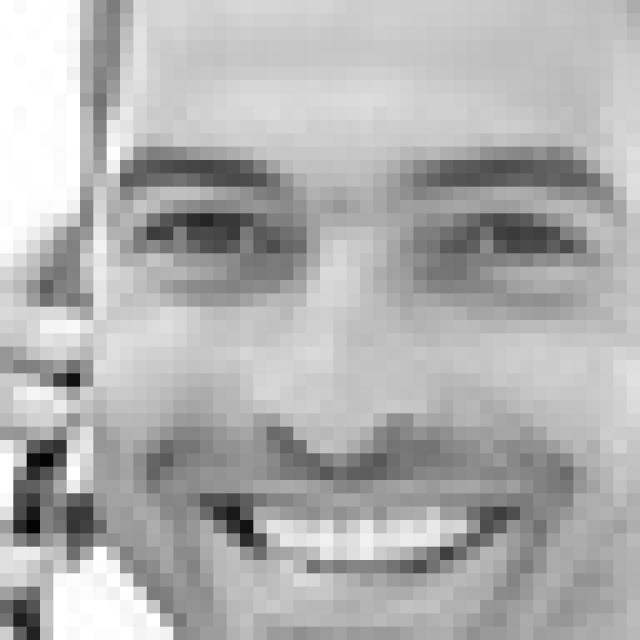happy: (109, 147, 624, 640)
